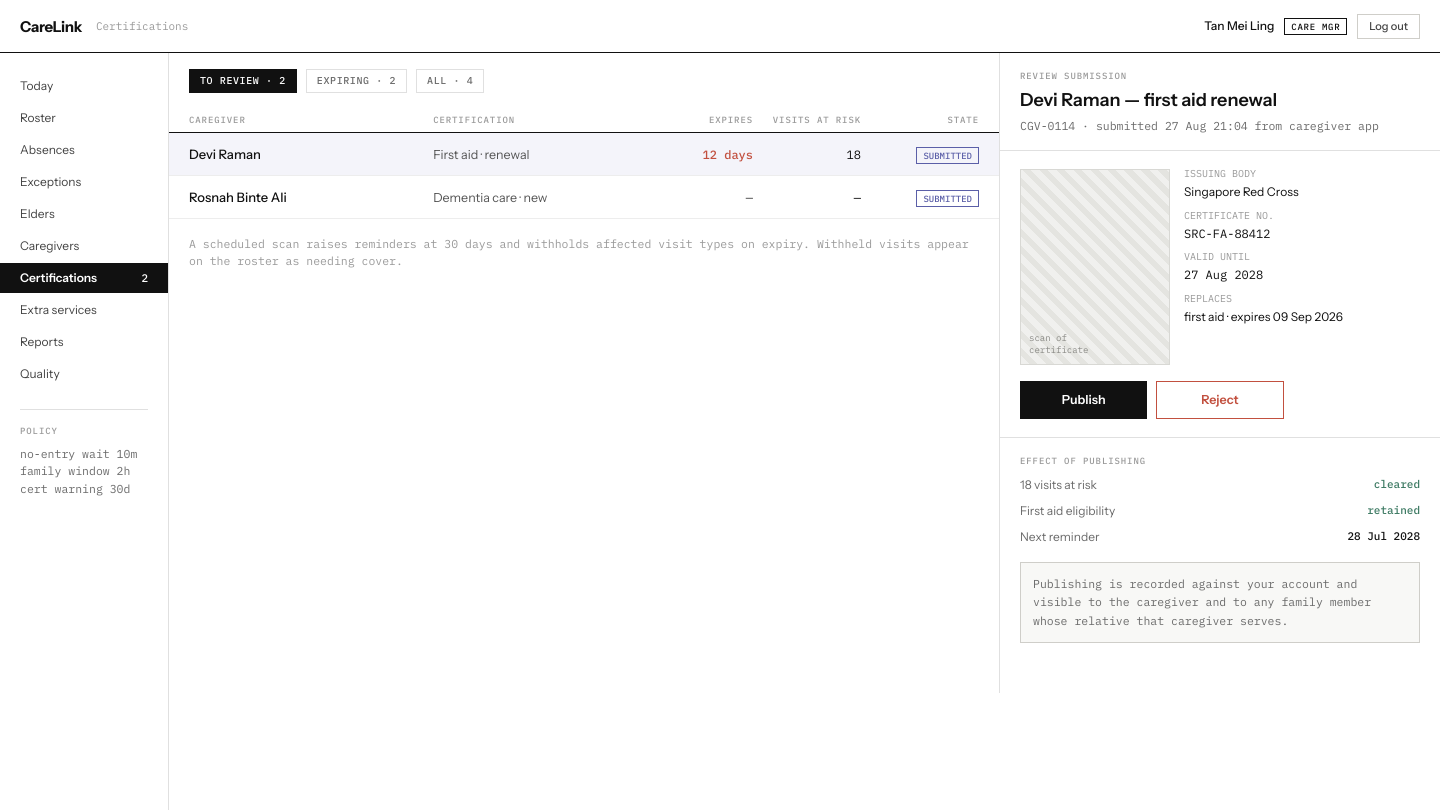
publishes and moves on to the next submission
Expected: the heading "Devi Raman — first aid renewal" is shown, [1020,89,1277,111]
Click the button "Publish" at x=1084, y=400, box [1020,381,1147,419]
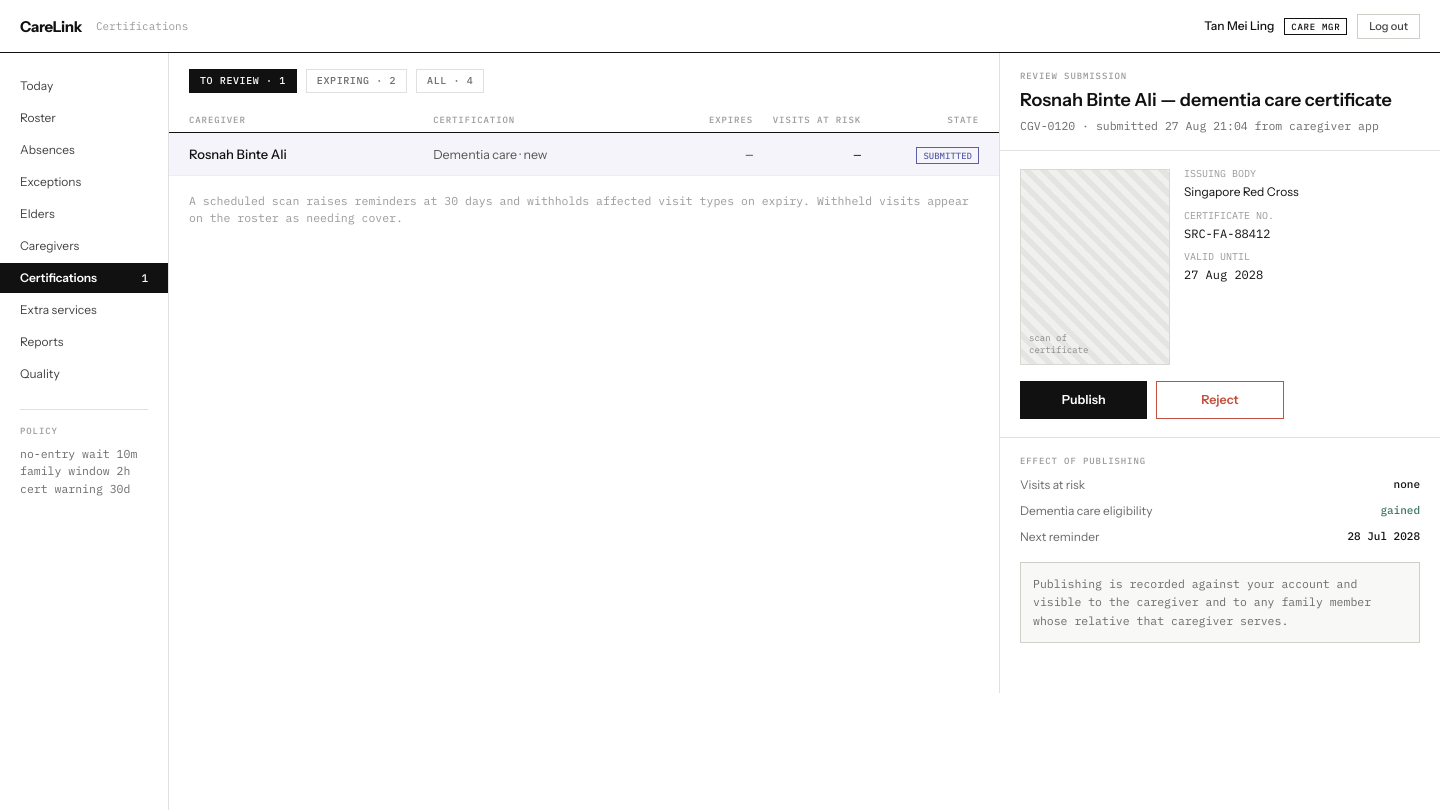
Expected: the element named "Certification detail" shows "Rosnah Binte Ali — dementia care certificate", [1020,89,1392,111]
Expected: the button "TO REVIEW · 1" is shown, [189,69,297,93]
